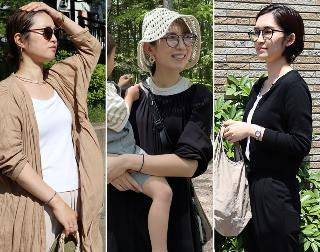person - v3 P: (0, 1, 101, 252), (217, 4, 316, 246), (128, 1, 212, 252)
